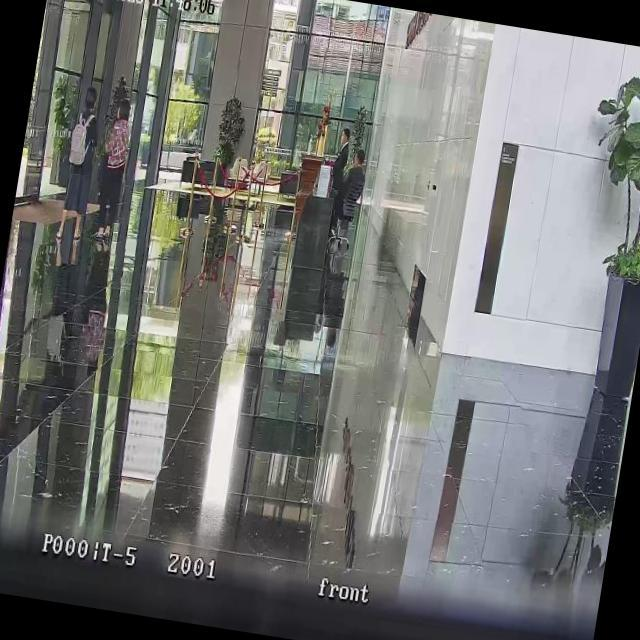person: (54, 85, 106, 248), (89, 98, 137, 242), (332, 148, 370, 240), (324, 125, 354, 212)
